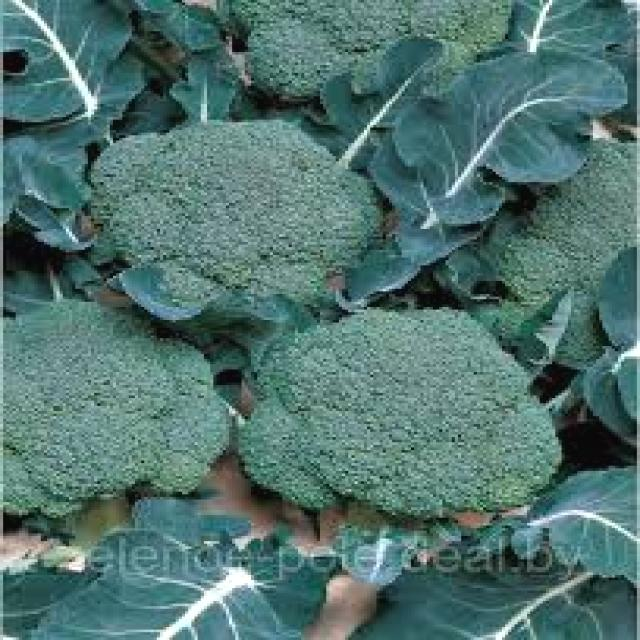broccoli: (242, 290, 581, 522), (83, 106, 426, 322), (0, 270, 263, 514), (459, 106, 640, 344), (197, 0, 542, 122)
